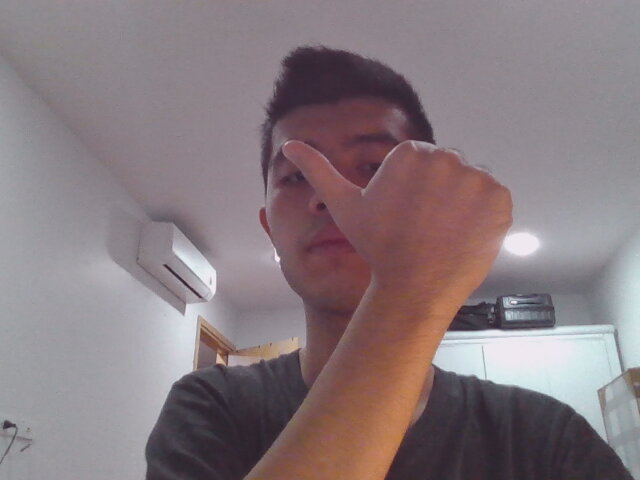right: (279, 128, 516, 282)
